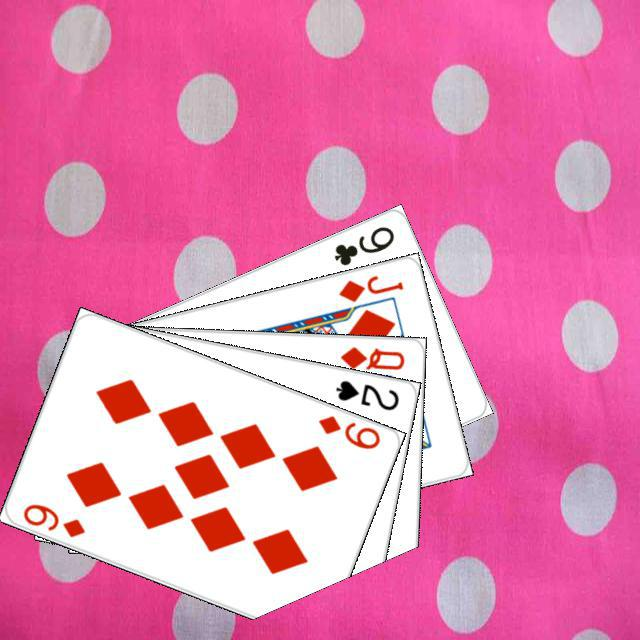2s: (331, 375, 401, 413)
9c: (329, 221, 396, 268)
9d: (313, 410, 382, 451), (18, 498, 87, 539)
Jd: (333, 270, 406, 304)
Qd: (336, 342, 406, 372)
